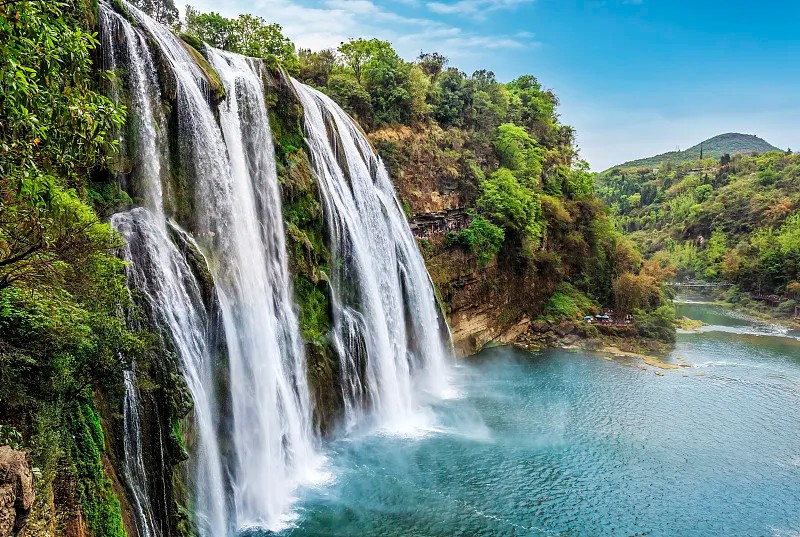Huangguoshu: (105, 1, 457, 534)
